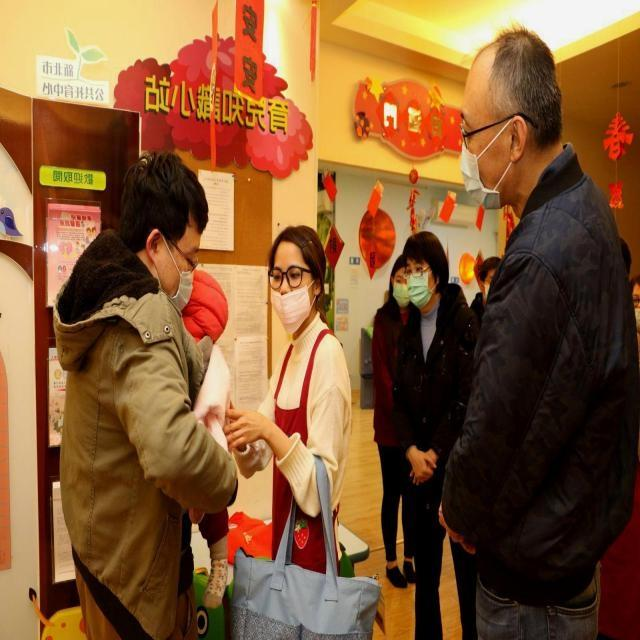hairnet: (266, 224, 324, 340)
